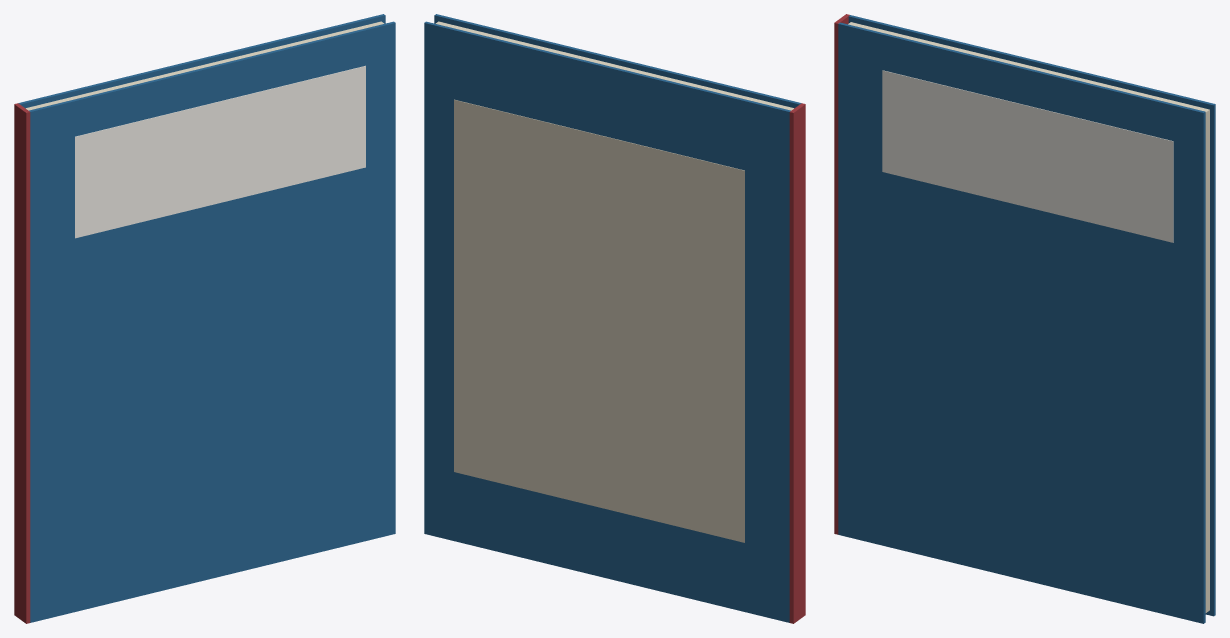
The model's file is album.glb.
The picture shows the model from 3 angles, left to right: view 1: azimuth 30°, elevation 25°; view 2: azimuth 150°, elevation 25°; view 3: azimuth 330°, elevation 25°; orthographic projection.
Visible parts, largest first — view 1: PremierPlat, PanneauTitre, Dos, QuatriemePlat, Pages; view 2: ListeTitres, QuatriemePlat, Dos, PremierPlat, Pages; view 3: PremierPlat, PanneauTitre, QuatriemePlat, Pages, Dos.
Boxes of the visible parts, x1,y1,x2,y2 form: PremierPlat: [29, 21, 395, 622]; PanneauTitre: [75, 65, 365, 238]; Dos: [14, 103, 30, 623]; QuatriemePlat: [18, 14, 385, 108]; Pages: [26, 21, 384, 110]; ListeTitres: [454, 99, 744, 542]; QuatriemePlat: [424, 21, 790, 622]; Dos: [789, 103, 805, 623]; PremierPlat: [434, 14, 801, 108]; Pages: [435, 21, 793, 110]; PremierPlat: [838, 22, 1205, 623]; PanneauTitre: [882, 70, 1173, 242]; QuatriemePlat: [848, 15, 1215, 616]; Pages: [848, 22, 1209, 612]; Dos: [834, 14, 849, 534].
Size of the model in its own units: 0.2285 by 0.302 by 0.0136.
